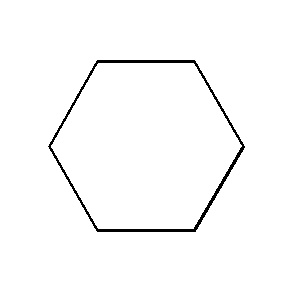line_segment: (48, 59, 245, 232)
